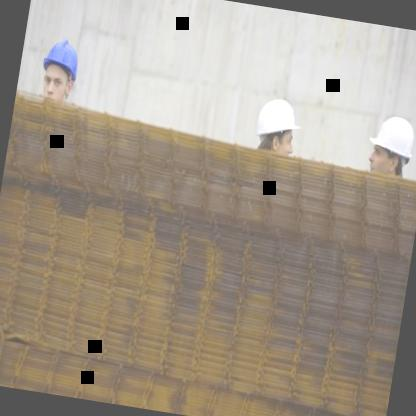helmet: (357, 105, 416, 191), (243, 90, 307, 168), (31, 32, 86, 115)
